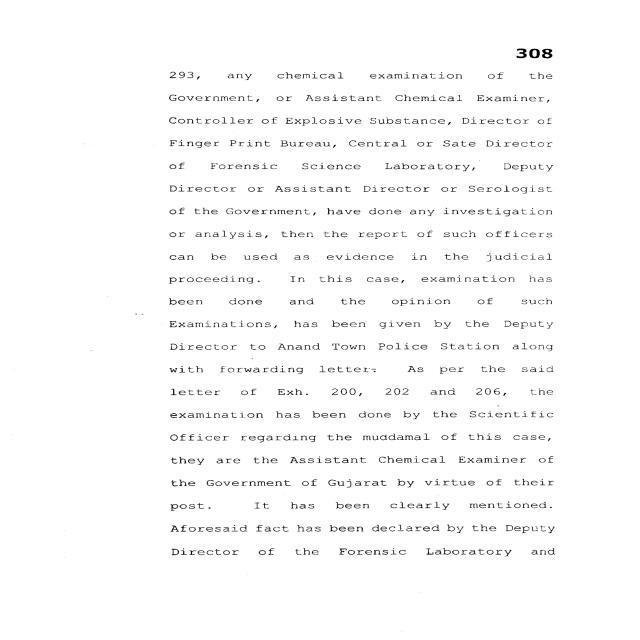page-number: (437, 0, 638, 63)
